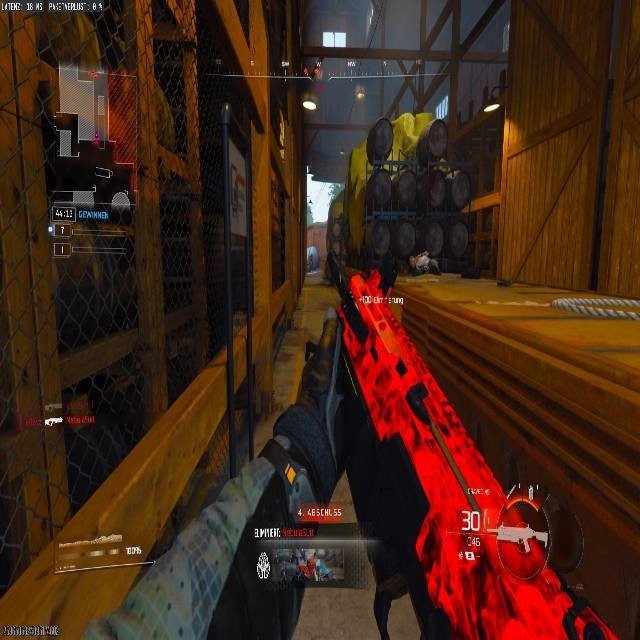head: (496, 497, 553, 576)
player: (414, 250, 435, 275), (307, 248, 315, 272)
